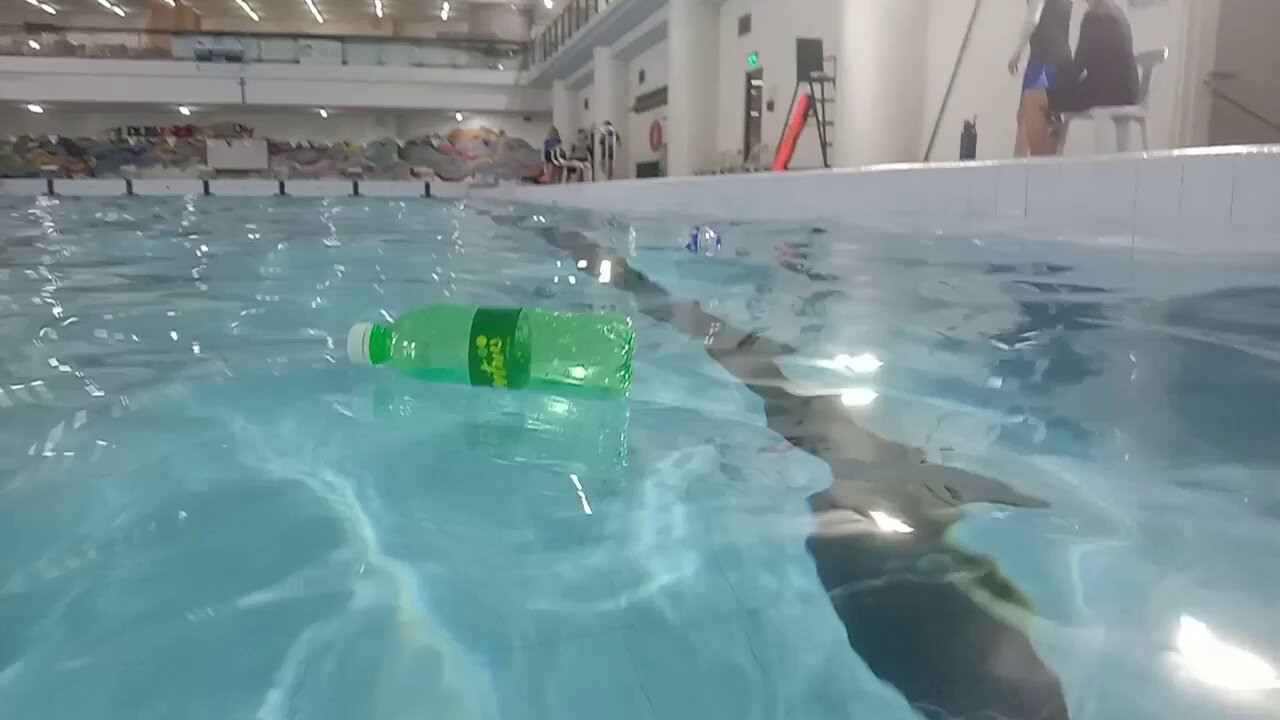plastic_bottle: (347, 304, 641, 392), (623, 218, 726, 256)
